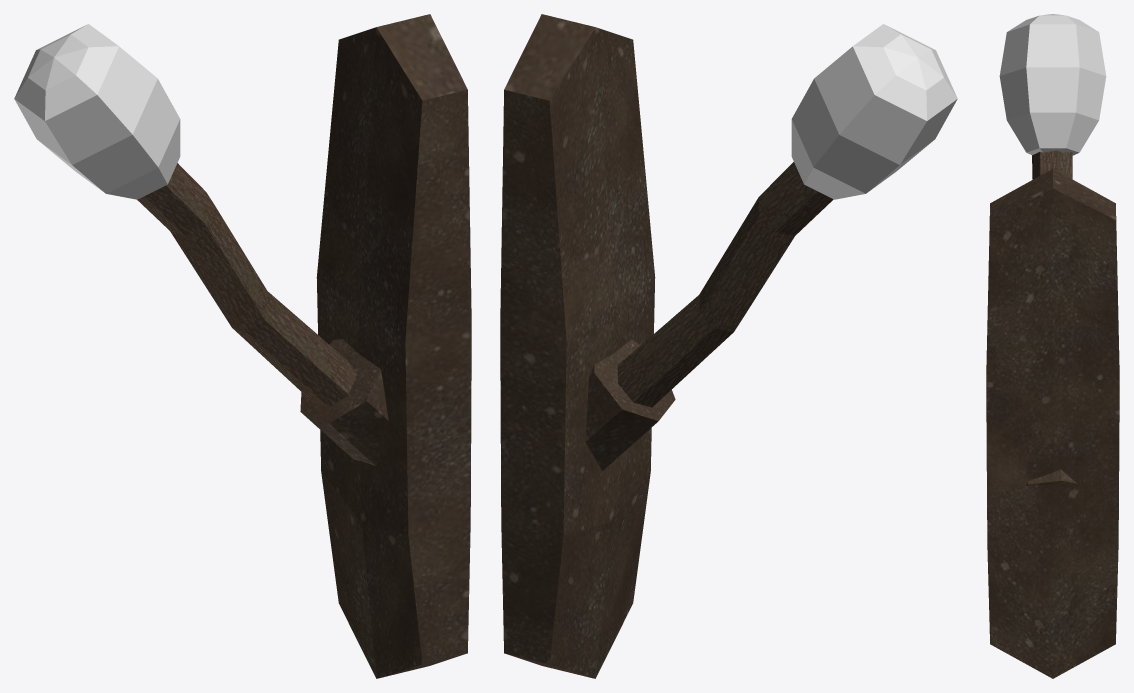
The model's file is Torch 2.fbx.
3 renders of one model, left to right at view 1: azimuth 30°, elevation 25°; view 2: azimuth 150°, elevation 25°; view 3: azimuth 270°, elevation 25°, orthographic. The views are drawn at different scales.
Parts seen in each view (by area): view 1: Wall torch 2; view 2: Wall torch 2; view 3: Wall torch 2.
Boxes of the visible parts, left/top/right/bottom form: Wall torch 2: left=14, top=14, right=471, bottom=678; Wall torch 2: left=500, top=14, right=957, bottom=678; Wall torch 2: left=986, top=14, right=1119, bottom=678.
Bounding box in the file's own units: 51.83 × 85.9 × 19.41.
